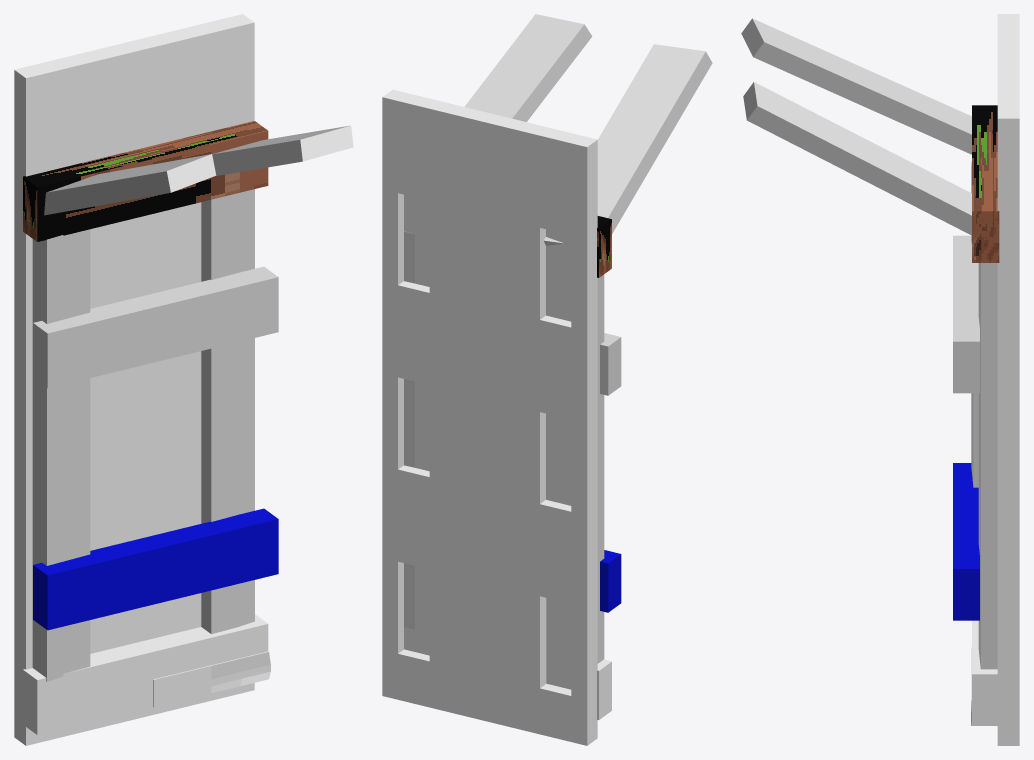
The model's file is Building.glb.
3 views of the same model, side by side, from view 1: azimuth 30°, elevation 25°; view 2: azimuth 150°, elevation 25°; view 3: azimuth 270°, elevation 25° (orthographic). The views are drawn at different scales.
Parts seen in each view (by area): view 1: Building Side, Left Backboard, High Spine, Low, Right Backboard, High Backboard, Low Backboard, Left_Stand, Right_Stand; view 2: Building Side, Left_Stand, Right_Stand, Left Backboard, Right Backboard, High Spine, Low, Low Backboard, High Backboard; view 3: Building Side, Right_Stand, Left_Stand, Right Backboard, Low Backboard, High Spine, Low, High Backboard, Left Backboard.
Part boxes in pixels (x1,y1,x2,y2): Building Side: (14,14,254,745); Left Backboard: (32,229,90,681); High Spine: (33,508,278,630); Low: (33,266,278,388); Right Backboard: (201,189,254,634); High Backboard: (23,614,270,734); Low Backboard: (23,121,268,241); Left_Stand: (44,154,216,215); Right_Stand: (212,125,353,175); Building Side: (382,89,597,745); Left_Stand: (543,44,712,245); Right_Stand: (464,14,592,121); Left Backboard: (597,274,604,663); Right Backboard: (404,231,414,629); High Spine: (600,550,621,612); Low: (600,333,621,395); Low Backboard: (597,216,611,277); High Backboard: (597,659,611,719); Building Side: (997,14,1019,745); Right_Stand: (743,82,971,235); Left_Stand: (741,18,971,154); Right Backboard: (978,263,997,669); Low Backboard: (972,105,999,262); High Spine: (953,463,979,620); Low: (953,235,979,393); High Backboard: (971,620,999,725); Left Backboard: (971,161,978,487).
Bounding box in the file's own units: 3.18 × 8.7 × 3.5.
4 materials, 1 textured.
